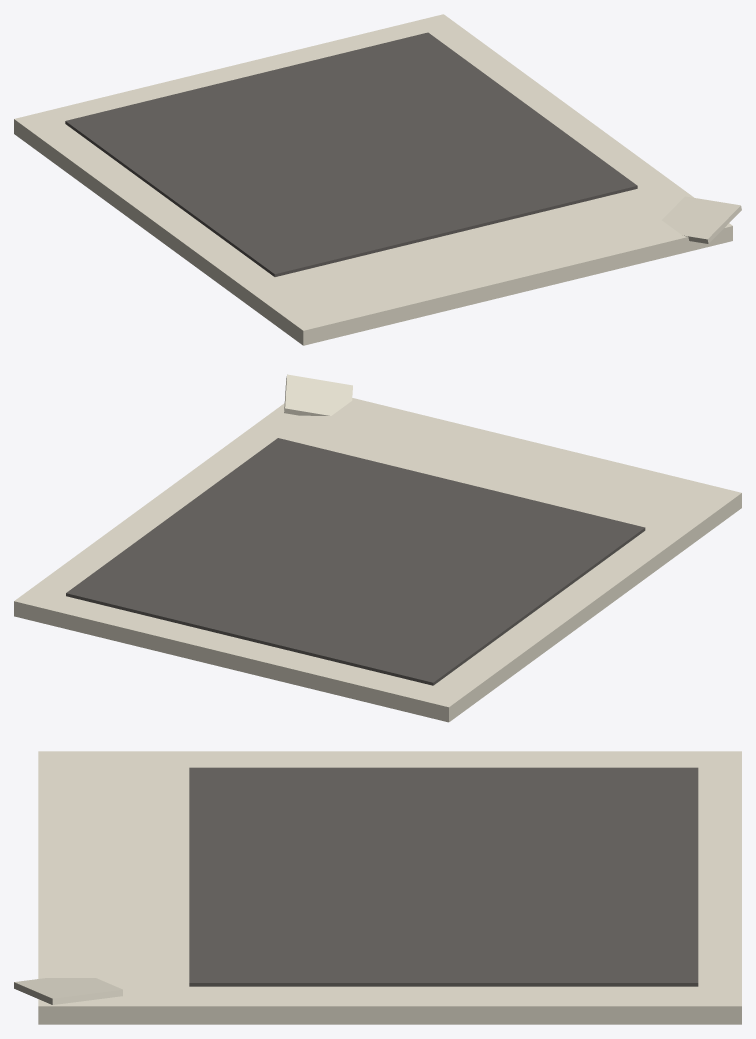
File: note_photo.glb
3 views of the same model, one above another, from view 1: azimuth 30°, elevation 25°; view 2: azimuth 150°, elevation 25°; view 3: azimuth 270°, elevation 25° (orthographic). The views are drawn at different scales.
Visible parts, largest first — view 1: Photo; view 2: Photo; view 3: Photo.
Part boxes in pixels (<box>): Photo: <box>14,14,741,345</box>; Photo: <box>14,374,741,722</box>; Photo: <box>14,751,741,1024</box>.
Size of the model in its own units: 0.0931 by 0.00561 by 0.1086.
